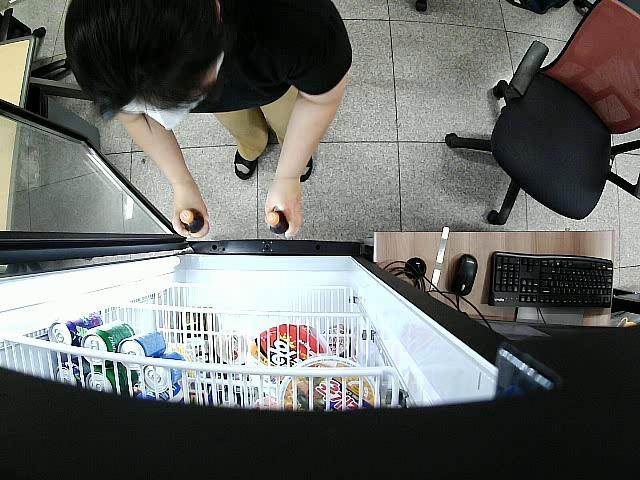00_hand: (265, 181, 303, 241), (169, 184, 209, 237)
17_vita500: (177, 207, 209, 239), (263, 209, 289, 233)
